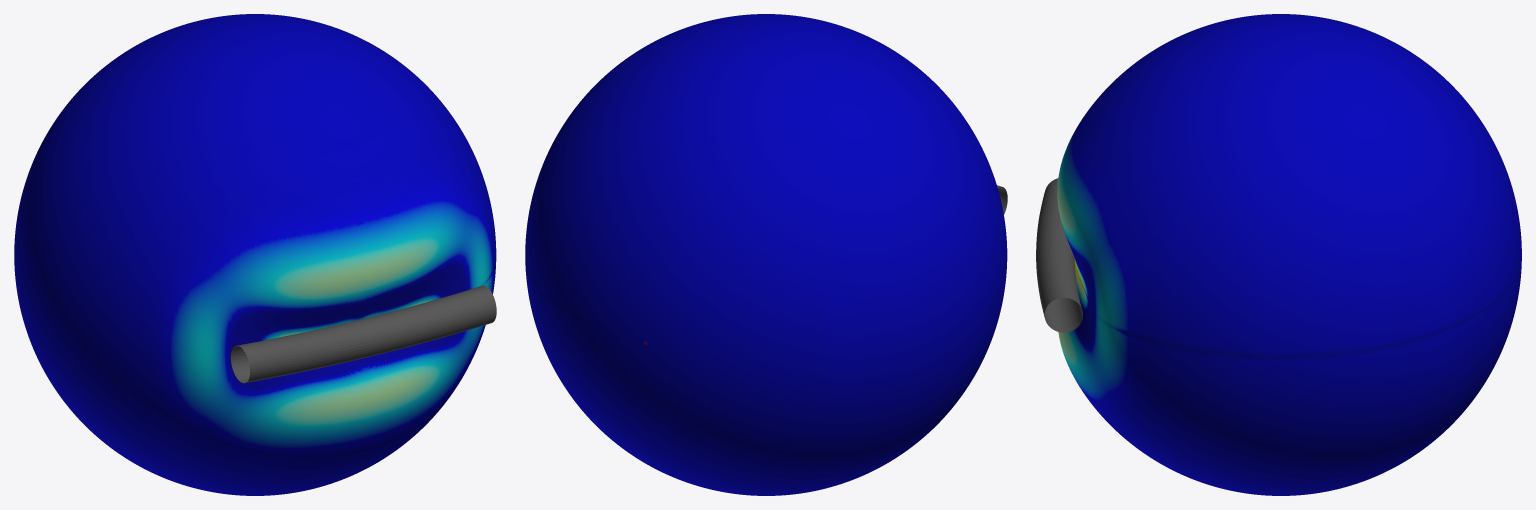
File: EV_environmentliposome_3Dmodel.glb
The picture shows the model from 3 angles, left to right: view 1: azimuth 30°, elevation 25°; view 2: azimuth 150°, elevation 25°; view 3: azimuth 270°, elevation 25°; orthographic projection.
Parts seen in each view (by area): view 1: world; view 2: world; view 3: world.
Boxes of the visible parts, x1=… form: world: x1=14, y1=14, x2=496, y2=495; world: x1=525, y1=14, x2=1007, y2=495; world: x1=1036, y1=14, x2=1521, y2=495.
Size of the model in its own units: 100 by 100 by 101.
